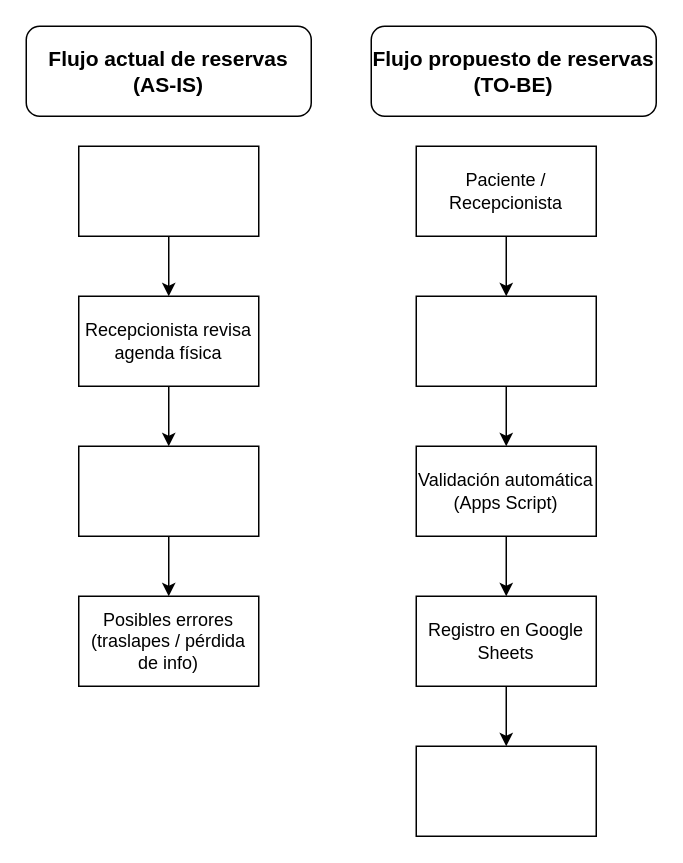
The diagram is 683 pixels wide and 863 high, and some of its shapes have lost their labels. Here are the shapes that lost their labels. From the top down, the box of each, then its label:
(77, 145, 259, 236): Paciente solicita cita
(415, 295, 596, 386): Formulario Web (Google Forms)
(77, 445, 259, 536): Registro manual de la cita
(415, 745, 596, 836): Confirmación de cita
